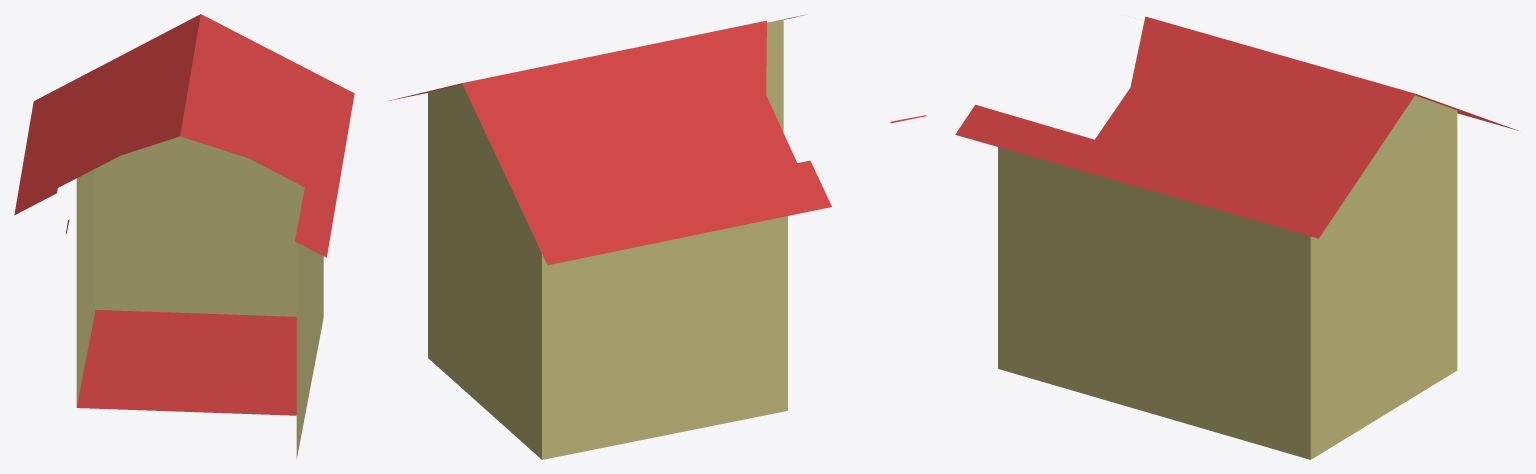
3 views of the same model, side by side, from view 1: azimuth 30°, elevation 25°; view 2: azimuth 150°, elevation 25°; view 3: azimuth 270°, elevation 25° (orthographic). The views are drawn at different scales.
Bounding box in the file's own units: 14.89 × 17.21 × 10.87.
